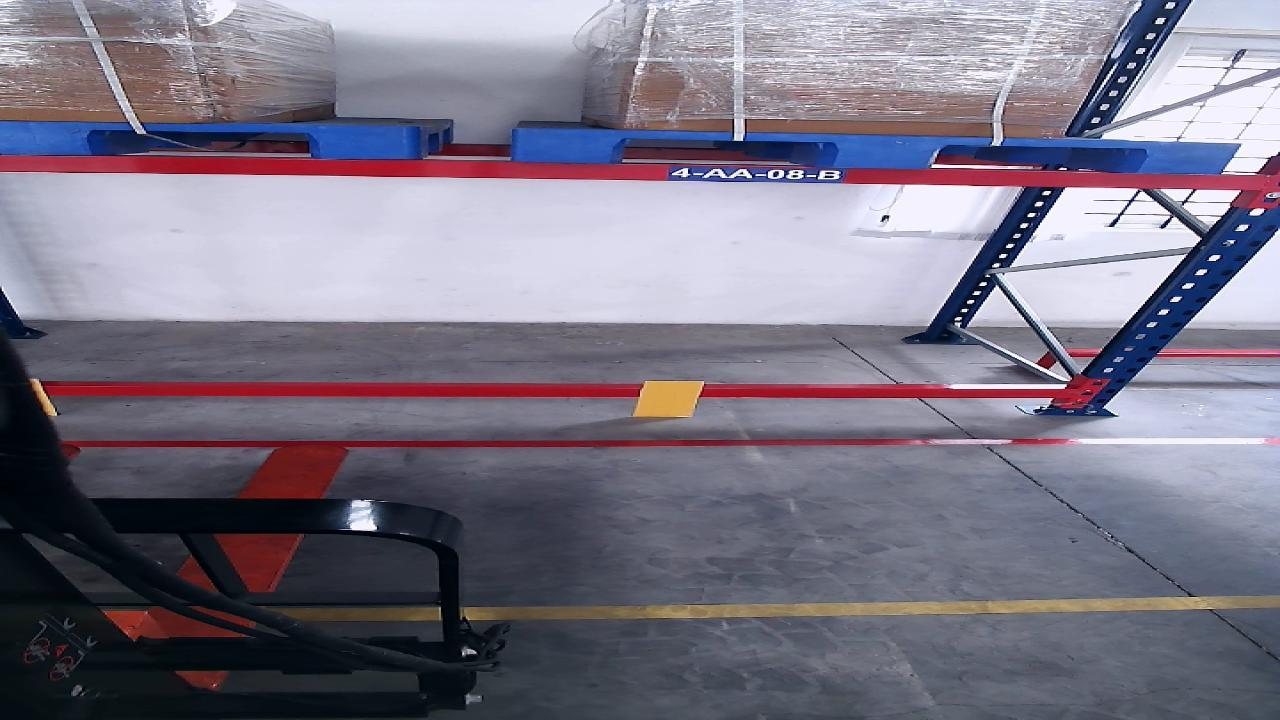h_rack: (3, 155, 1275, 191), (43, 386, 1065, 398)
orange_strip: (631, 380, 699, 416)
red_line: (61, 437, 1273, 448)
small_pallet: (516, 128, 1233, 175), (3, 122, 411, 158)
yellow_line: (290, 597, 1275, 620)
